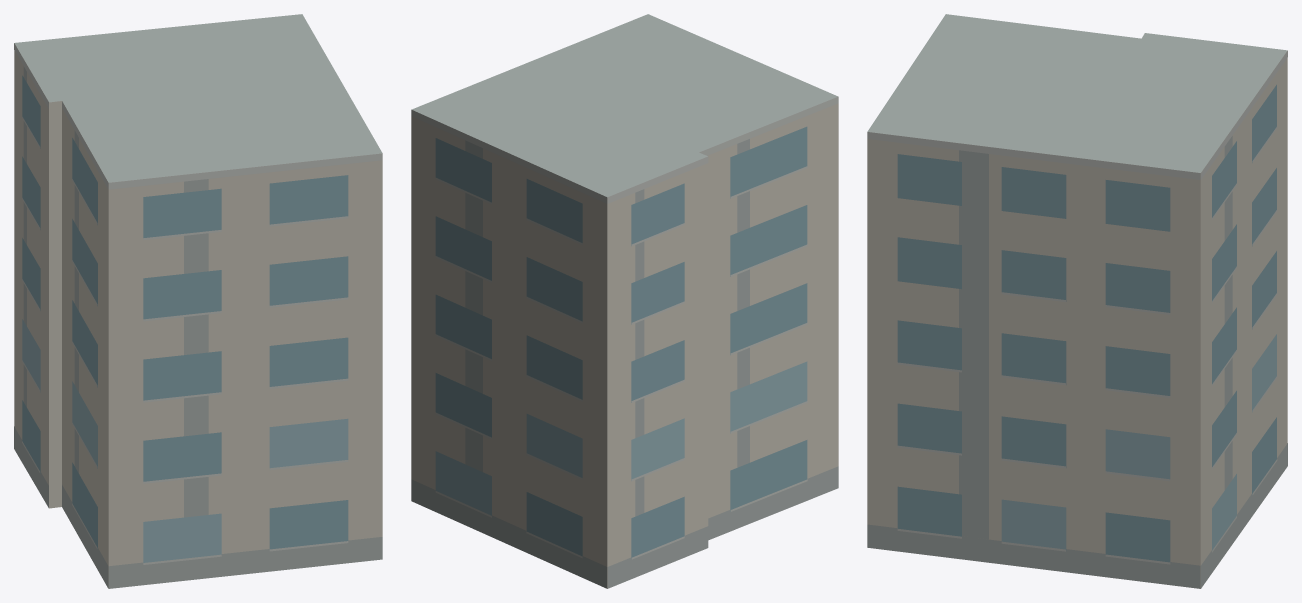
File: survey-upis-32877816.glb
The picture shows the model from 3 angles, left to right: view 1: azimuth 30°, elevation 25°; view 2: azimuth 150°, elevation 25°; view 3: azimuth 270°, elevation 25°; orthographic projection. The views are drawn at different scales.
Visible parts, largest first — view 1: survey-upis-32877816.tmp; view 2: survey-upis-32877816.tmp; view 3: survey-upis-32877816.tmp.
Boxes of the visible parts, left/top/right/bottom form: survey-upis-32877816.tmp: left=14, top=14, right=382, bottom=588; survey-upis-32877816.tmp: left=411, top=14, right=838, bottom=588; survey-upis-32877816.tmp: left=867, top=14, right=1287, bottom=588.
Size of the model in its own units: 11.82 by 14.4 by 13.21.
